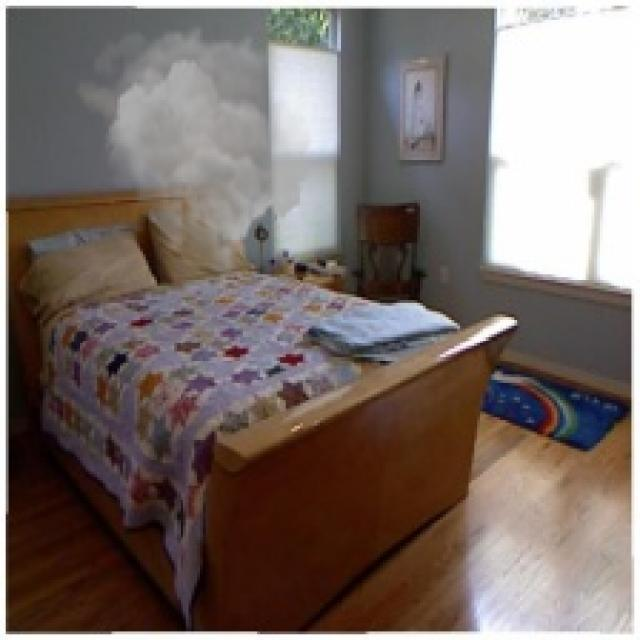Smoke: (74, 22, 314, 294)
